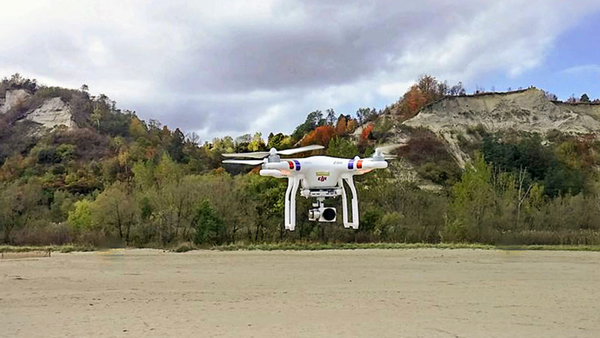drone: (219, 143, 391, 232)
